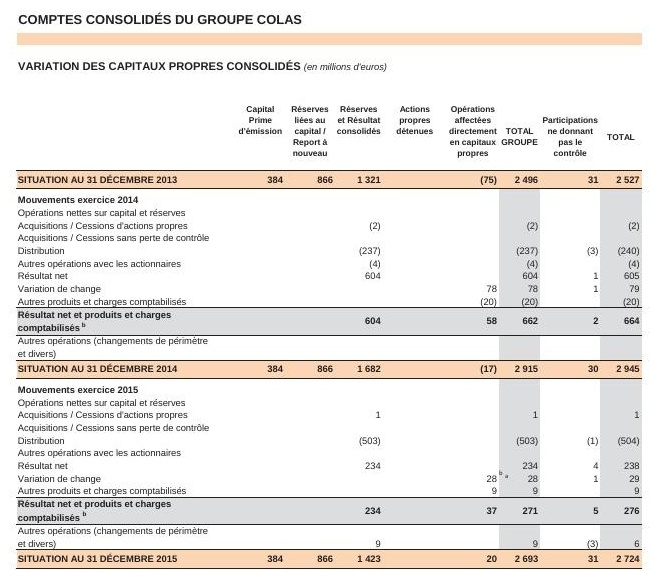table: (0, 0, 654, 580)
